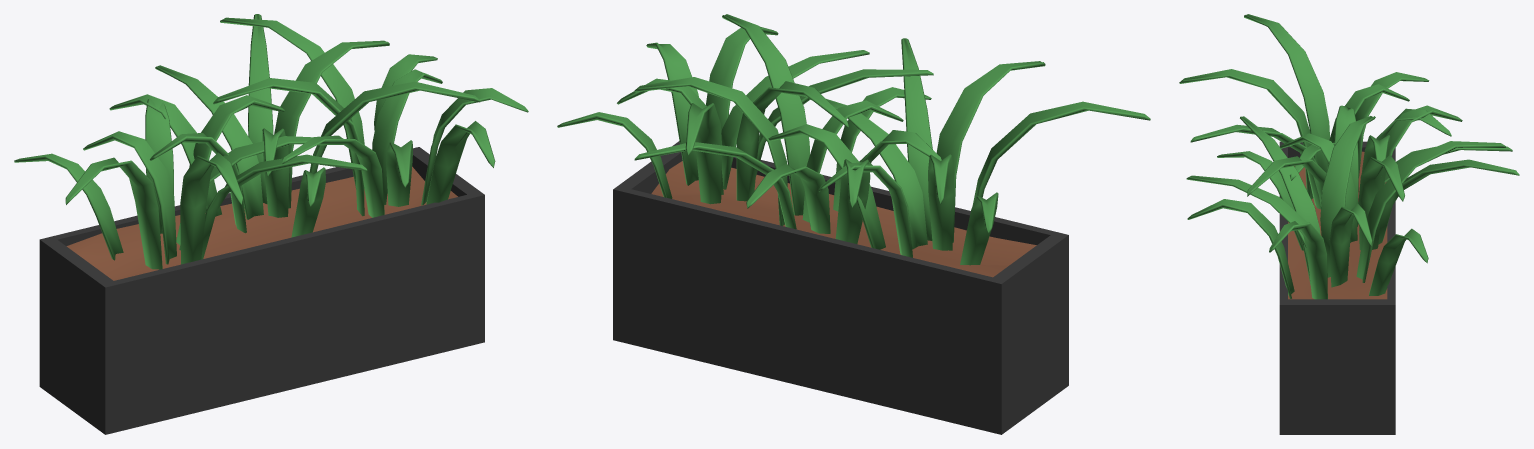
The model's file is M_Plantpot_Large_0.fbx.
3 renders of one model, left to right at view 1: azimuth 30°, elevation 25°; view 2: azimuth 150°, elevation 25°; view 3: azimuth 270°, elevation 25°, orthographic. The views are drawn at different scales.
Visible parts, largest first — view 1: M_Plantpot_Large_0; view 2: M_Plantpot_Large_0; view 3: M_Plantpot_Large_0.
Boxes of the visible parts, left/top/right/bottom form: M_Plantpot_Large_0: left=14, top=14, right=528, bottom=434; M_Plantpot_Large_0: left=557, top=14, right=1150, bottom=434; M_Plantpot_Large_0: left=1179, top=14, right=1519, bottom=434.
Bounding box in the file's own units: 1006 × 554 × 704.
